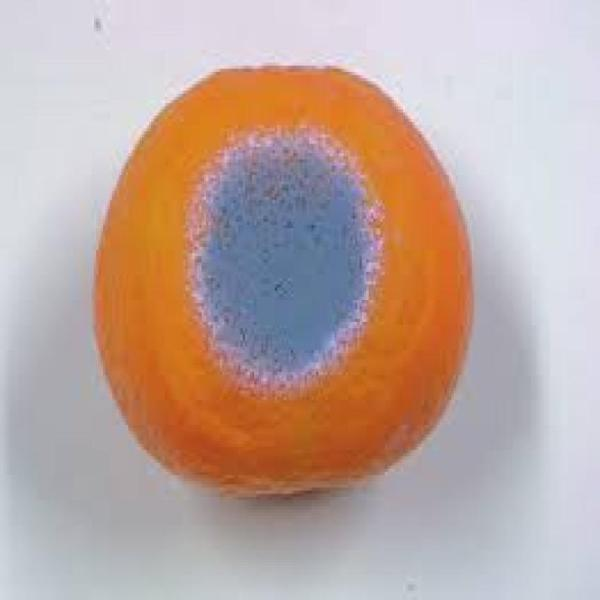Moho verde: (78, 48, 488, 527)
